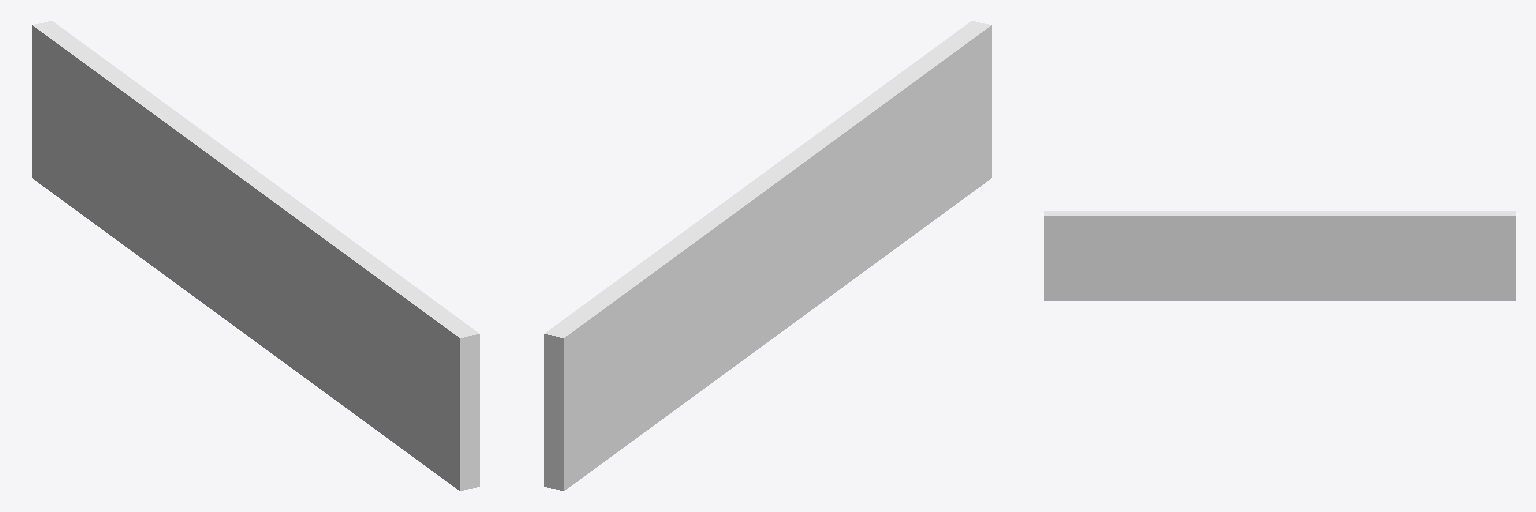
robot.urdf — drawer_rightwall:
<?xml version="1.0" ?>
<robot name="drawer_rightwall">
 <link name="baseLink">
   <contact>
     <lateral_friction value="0.5"/>
   </contact>
   <inertial>
     <origin rpy="0 0 0" xyz="1.04 0.4 0.625"/>
      <mass value="1.0"/>
      <inertia ixx="0.000114" ixy="0.000000" ixz="-0.000000" iyy="0.000004" iyz="-0.000000" izz="0.000110"/>
   </inertial>
   <visual>
     <origin rpy="0 0 0" xyz="0 0 0"/>
     <geometry>
       <mesh filename="drawer_rightwall.obj" scale="1.0 1.0 1.0"/>
     </geometry>
      <material name="white">
       <color rgba="1 1 1 1"/>
     </material>
   </visual>
   <collision>
     <origin rpy="0 0 0" xyz="0 0 0"/>
     <geometry>
       <mesh filename="drawer_rightwall.obj" scale="1.0 1.0 1.0"/>
     </geometry>
   </collision>
 </link>
</robot>

--- What the picture shows (computed from the rendered views, not written in the file) ---
Views: 3 orthographic renders of the robot side by side, from view 1: azimuth 30°, elevation 25°; view 2: azimuth 150°, elevation 25°; view 3: azimuth 270°, elevation 25°.
Robot: drawer_rightwall — 1 links, 0 joints (none); root link baseLink; default pose: every joint at zero.
Visible links, largest first — view 1: baseLink; view 2: baseLink; view 3: baseLink.
Boxes of the visible links, x1,y1,x2,y2 form: baseLink: [32, 21, 479, 490]; baseLink: [544, 21, 991, 490]; baseLink: [1044, 211, 1515, 300].
Size in the robot's own frame: 0.02 by 0.76 by 0.15 metres.
1 mesh visuals loaded from 1 distinct referenced files (1 OBJ).